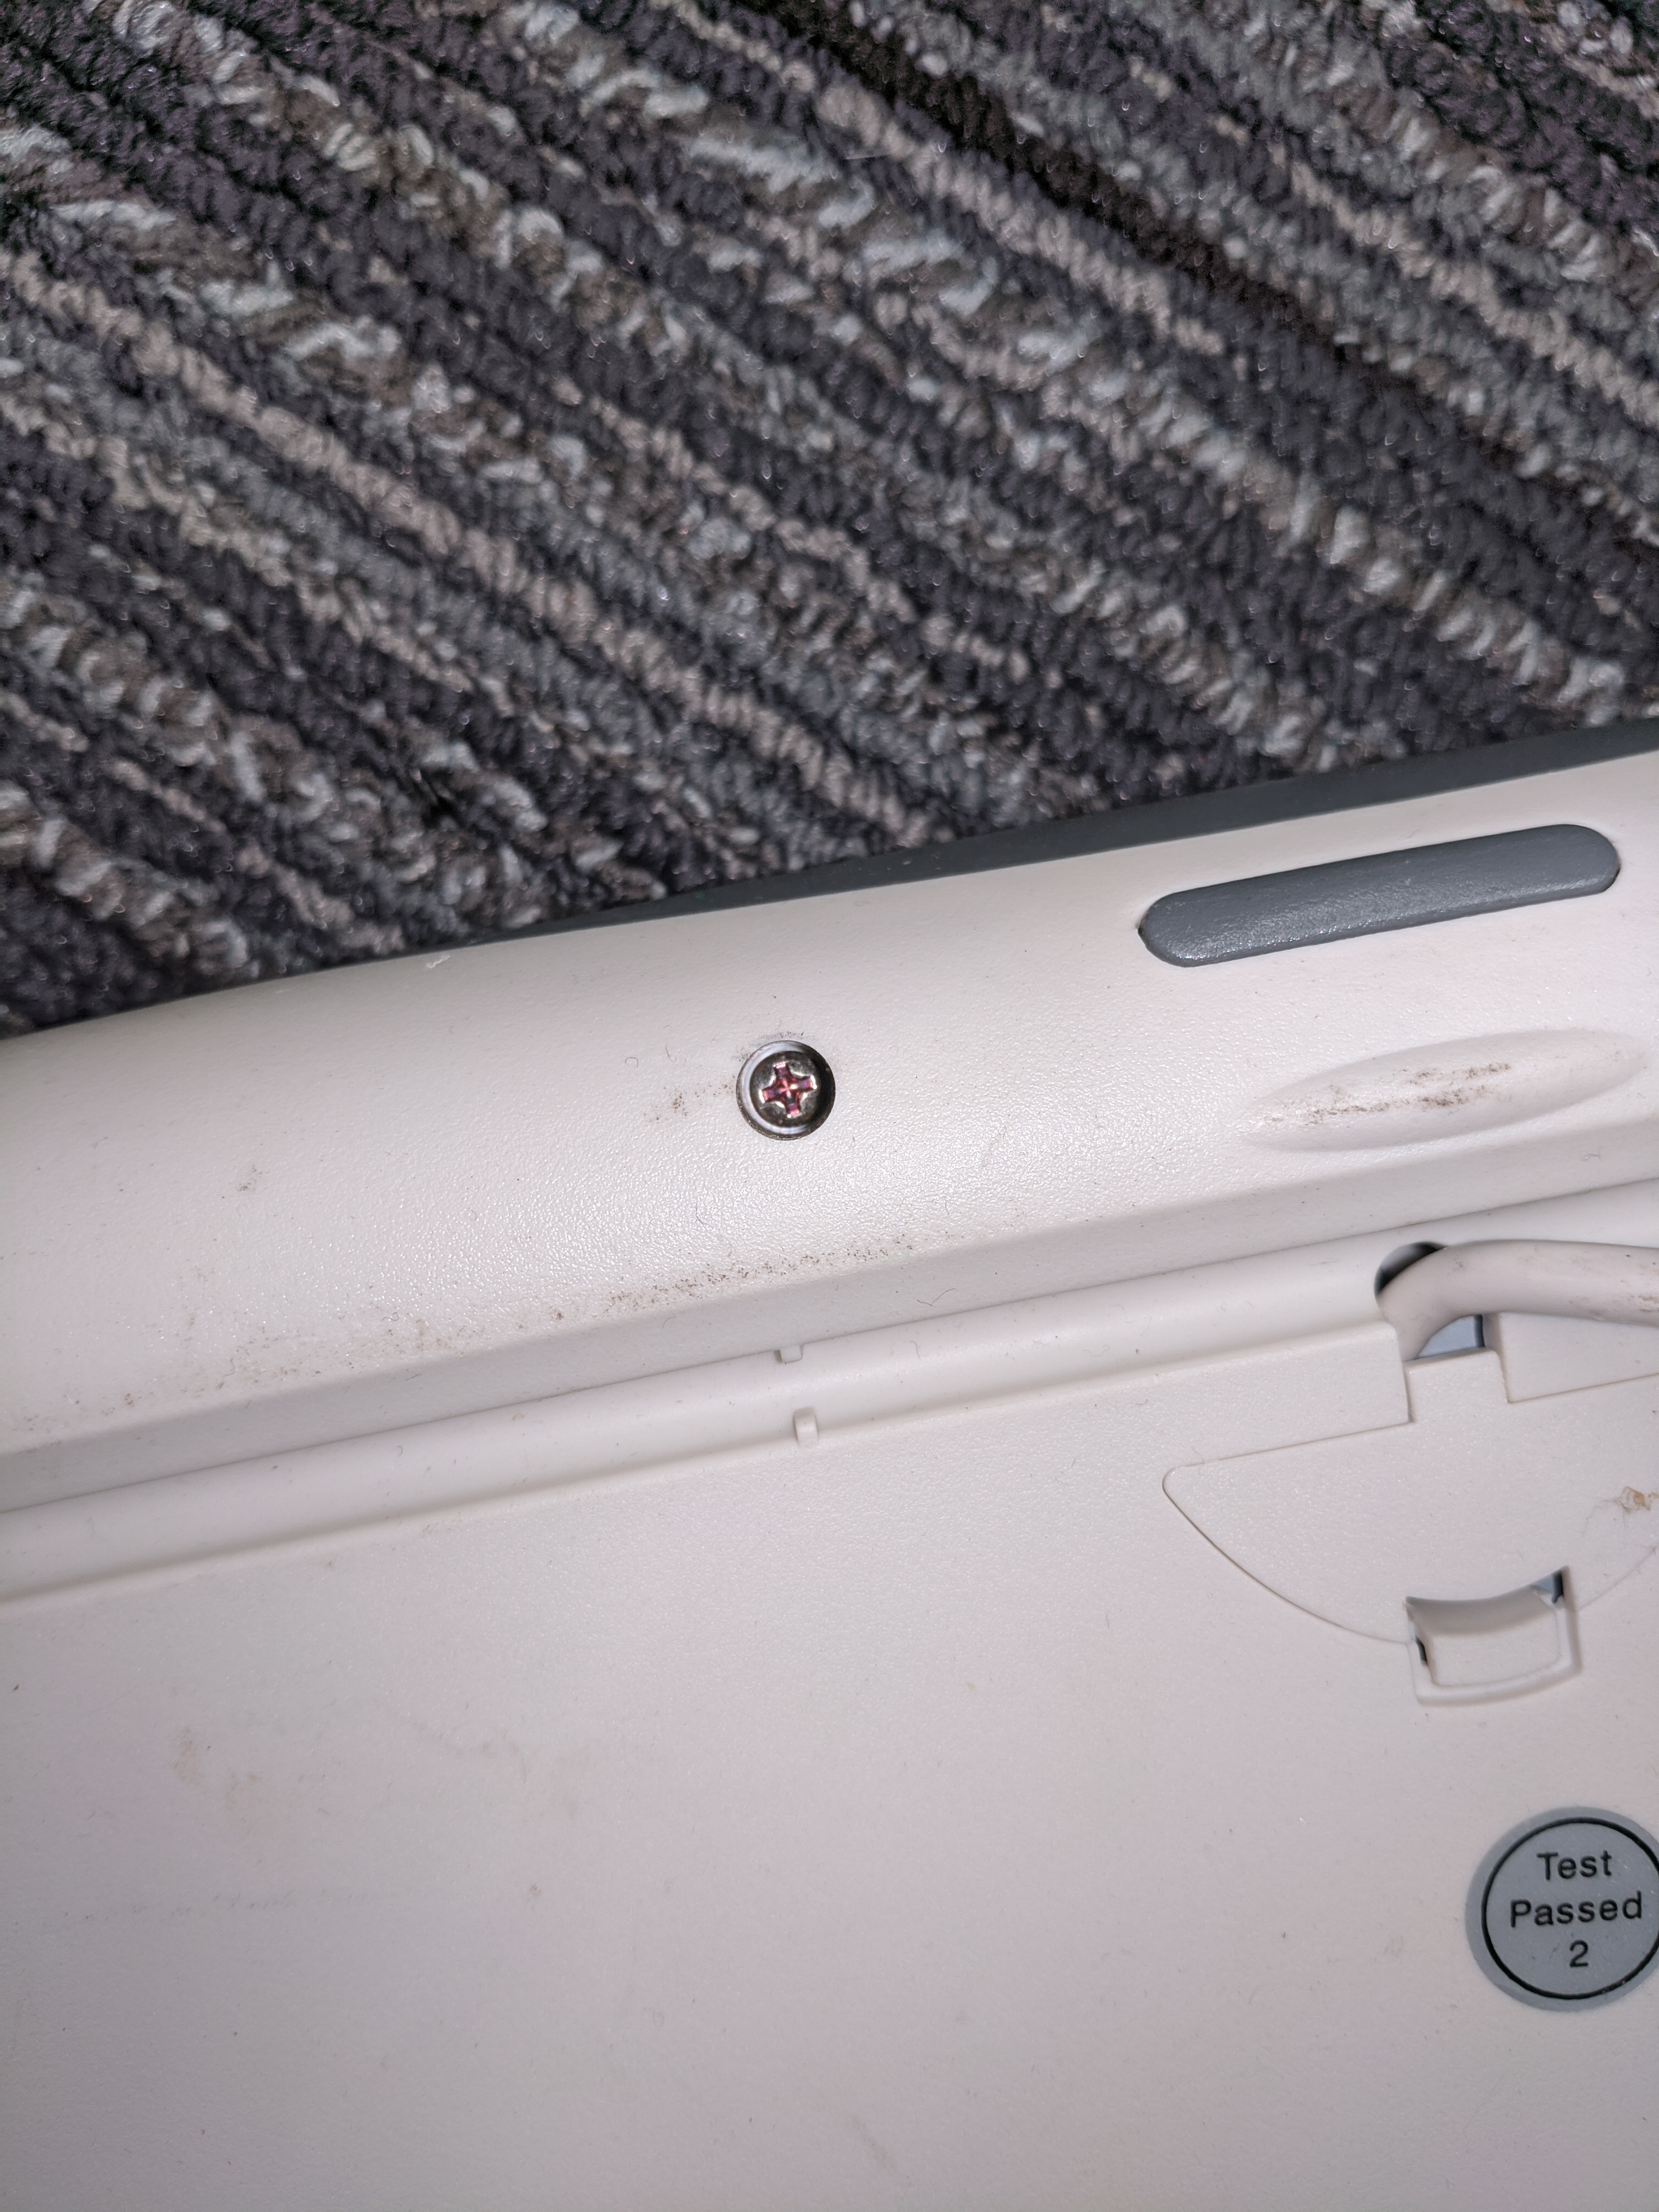cross_recessed_screw: (739, 1045, 838, 1132)
